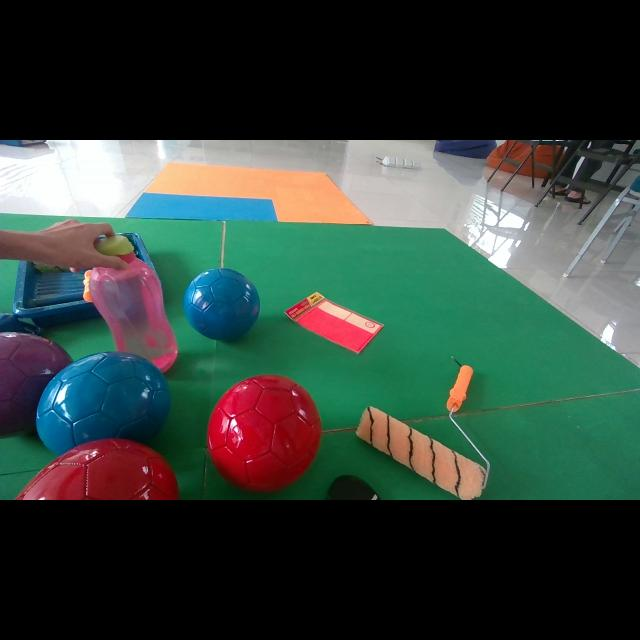B: (36, 352, 170, 455), (182, 268, 260, 340)
P: (0, 332, 71, 434)
R: (208, 375, 321, 491), (16, 439, 179, 500)
